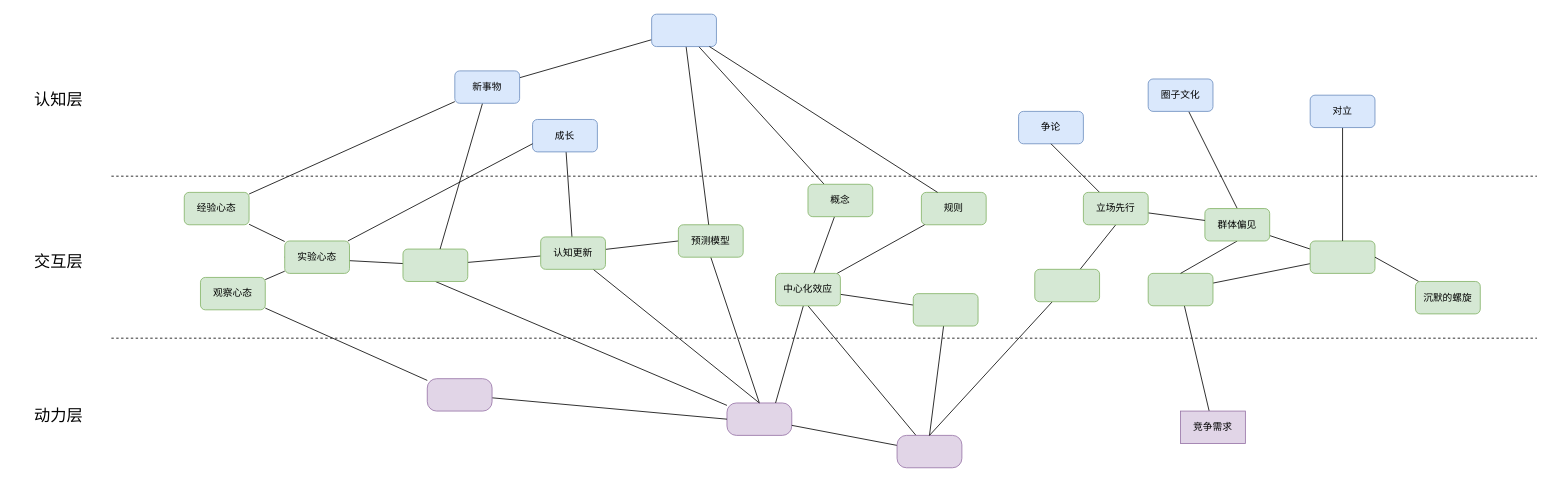
Some shapes in this 1552 by 482 pixel diagram are drawn without their labels. Each missing label, with the centre of its shape:
任务心态: the point at 945,309
心智世界: the point at 759,418
框架: the point at 435,264
真实世界: the point at 683,30
社会直觉理论: the point at 1067,285
社会认同理论: the point at 1180,289
稳定: the point at 929,451
群体极化: the point at 1342,256
自我察觉: the point at 459,394
